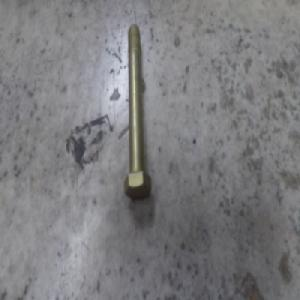Bolt: (125, 28, 151, 200)
